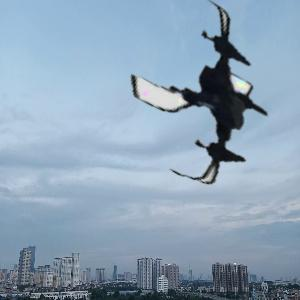drone: (123, 11, 294, 182)
